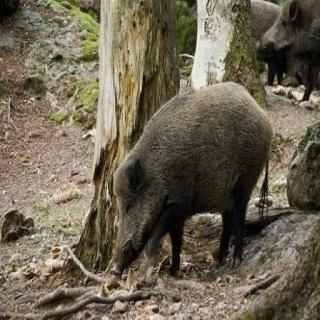Pig: (96, 57, 283, 297)
